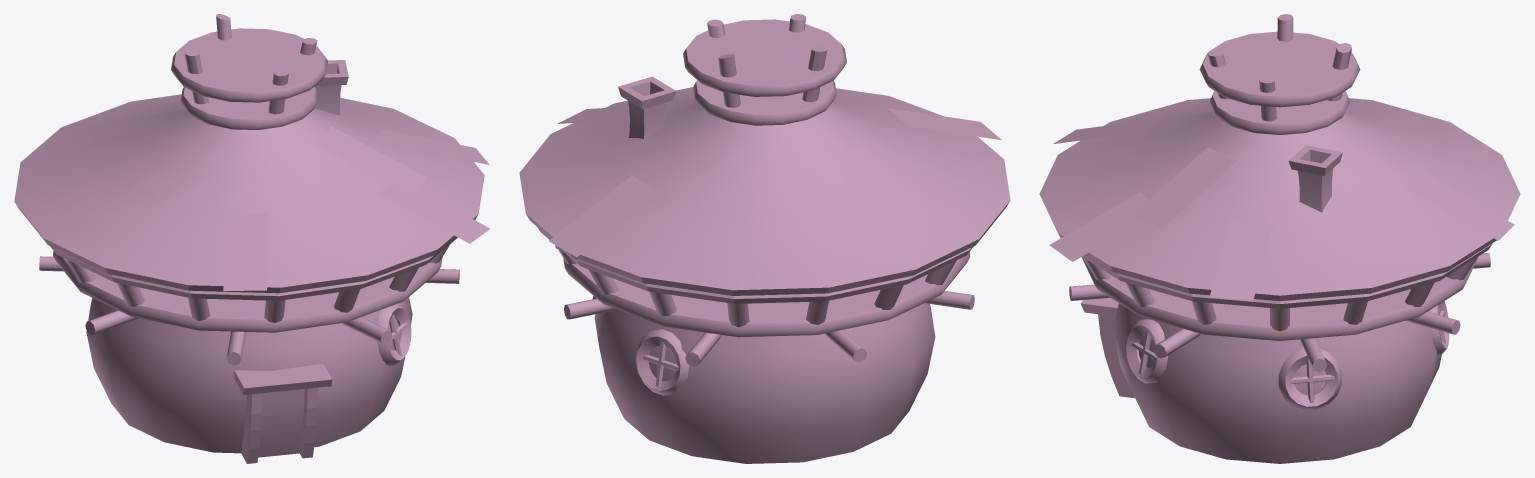
File: MESH_RoundHouse01.fbx
3 views of the same model, side by side, from view 1: azimuth 30°, elevation 25°; view 2: azimuth 150°, elevation 25°; view 3: azimuth 270°, elevation 25° (orthographic). The views are drawn at different scales.
Parts seen in each view (by area): view 1: MESH_RoundHouse01; view 2: MESH_RoundHouse01; view 3: MESH_RoundHouse01.
Part boxes in pixels (left/top/right/bottom): MESH_RoundHouse01: left=14, top=14, right=490, bottom=463; MESH_RoundHouse01: left=519, top=14, right=1010, bottom=463; MESH_RoundHouse01: left=1039, top=14, right=1520, bottom=463.
Size of the model in its own units: 9.29 by 9.13 by 7.55.
